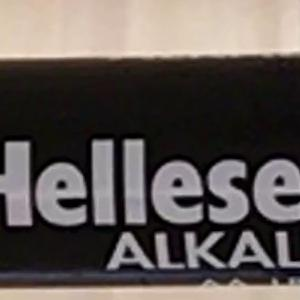keyword: (97, 222, 218, 280)
